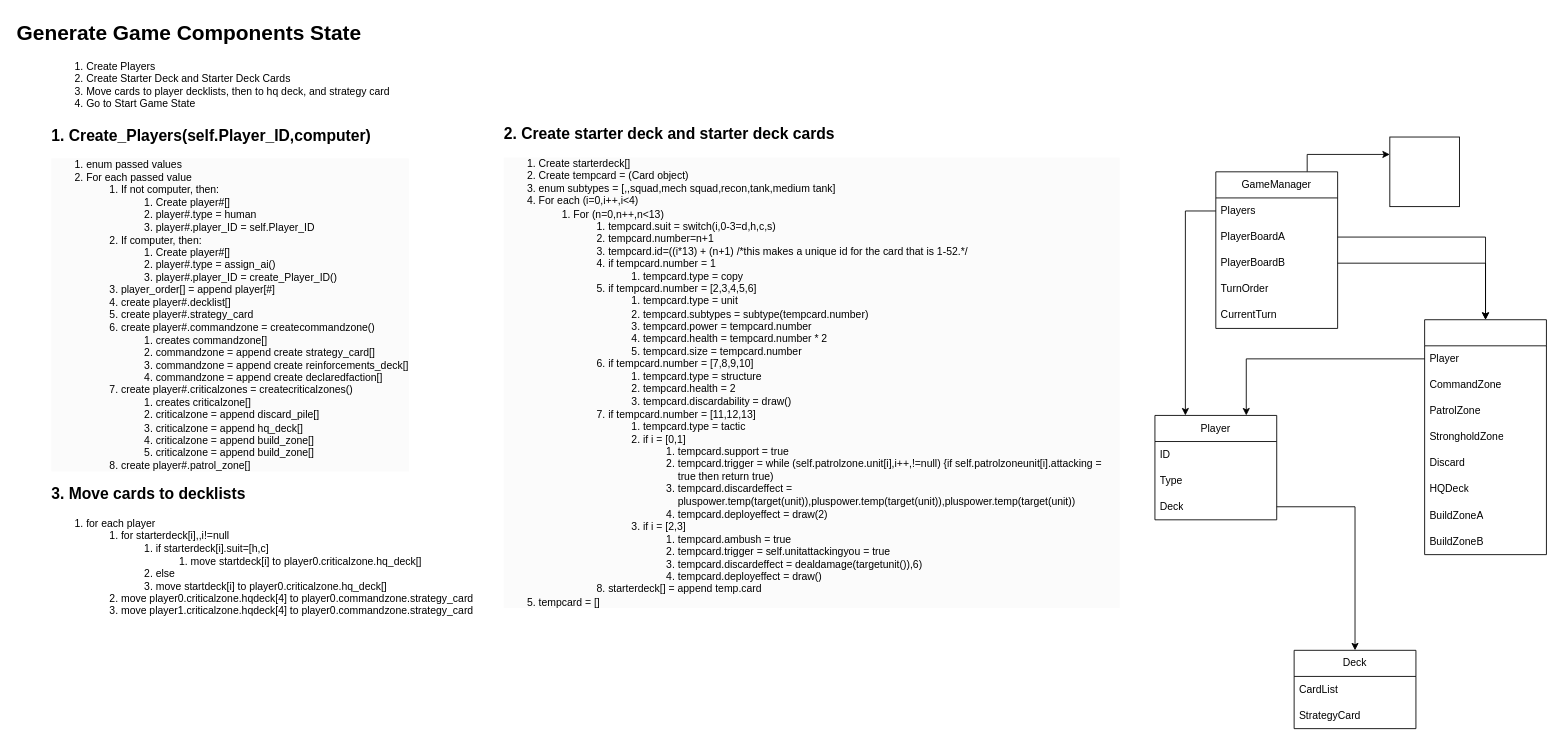
Image size: 1562x744. Some labels were removed from this diagram. Each missing label, with the box of its shape:
Need some sort of turn manager / state machine: (1389, 136, 1459, 207)
PlayerBoard: (1424, 319, 1546, 555)
